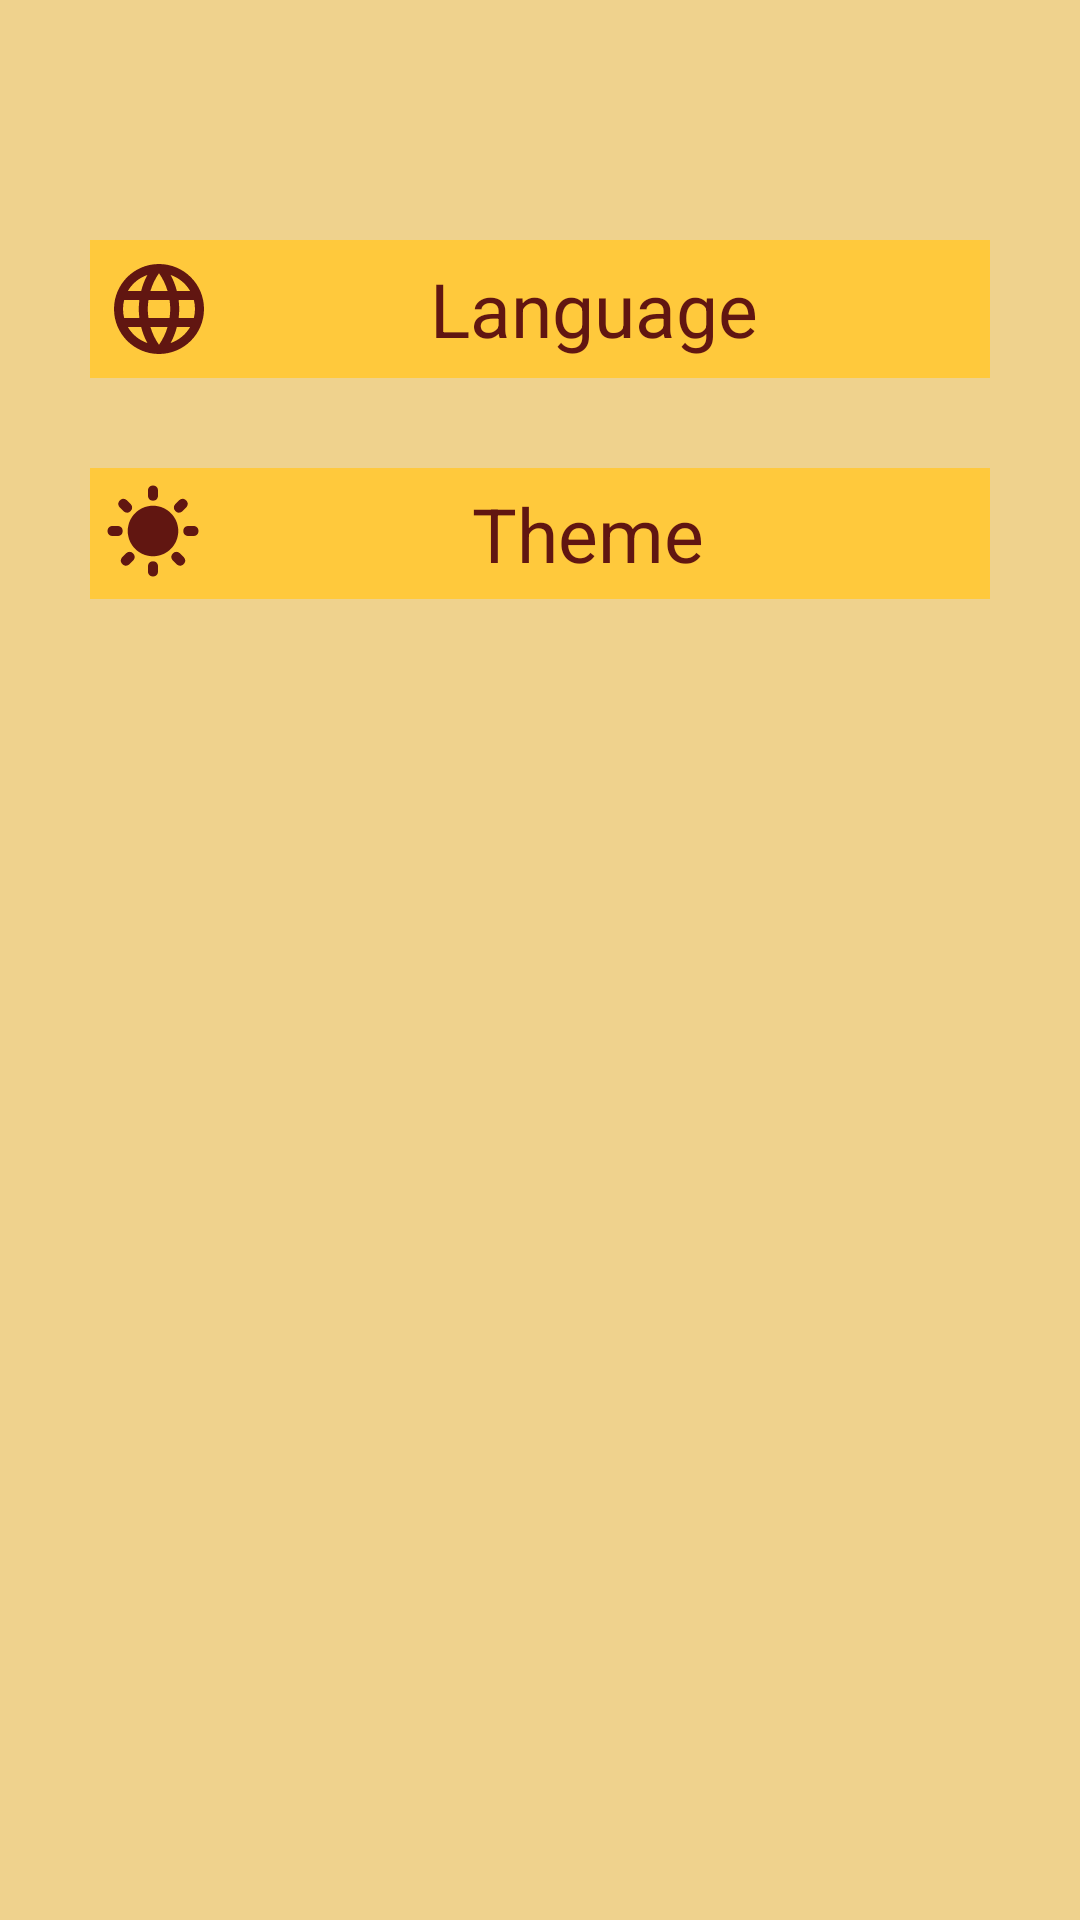

Screen size 1080w x 1920h. Icon name, then its center in pixels as (x,y):
sun: (153,531)
